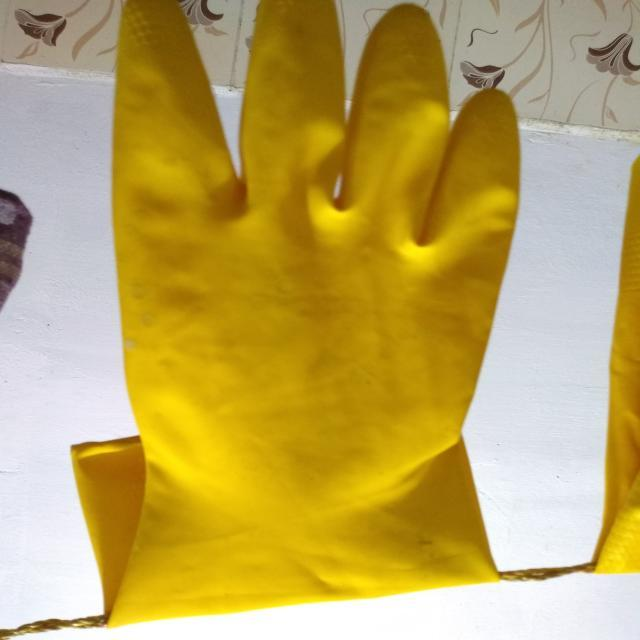gloved_hand: (55, 2, 522, 630)
